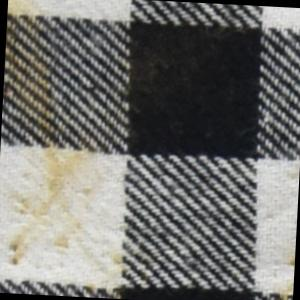Oil Stain: (1, 1, 143, 300), (257, 167, 300, 300)
